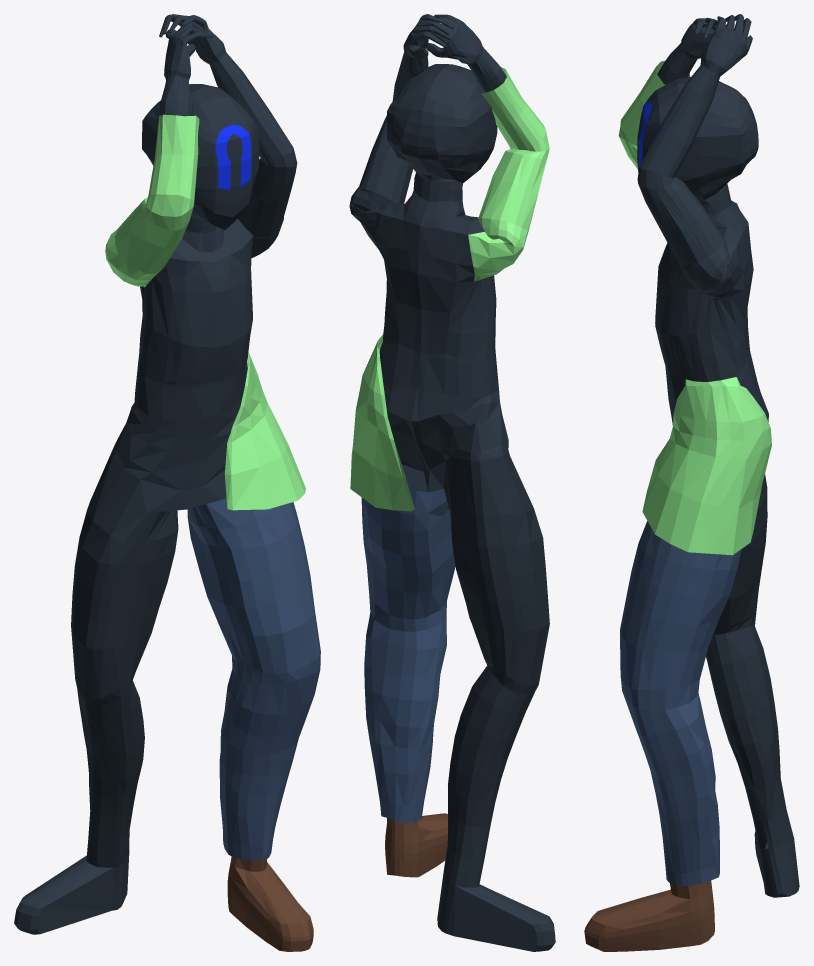
Rendered from Mar_Attack_000015.obj.
3 views of the same model, side by side, from view 1: azimuth 30°, elevation 25°; view 2: azimuth 150°, elevation 25°; view 3: azimuth 270°, elevation 25° (orthographic). The views are drawn at different scales.
Visible parts, largest first — view 1: Cube.000_Cube.001; view 2: Cube.000_Cube.001; view 3: Cube.000_Cube.001.
Part boxes in pixels (box(x1,y1,x2,y2)): Cube.000_Cube.001: box(14, 14, 320, 951); Cube.000_Cube.001: box(349, 14, 555, 951); Cube.000_Cube.001: box(584, 14, 799, 951).
Size of the model in its own units: 1.21 by 4.18 by 0.9016.
